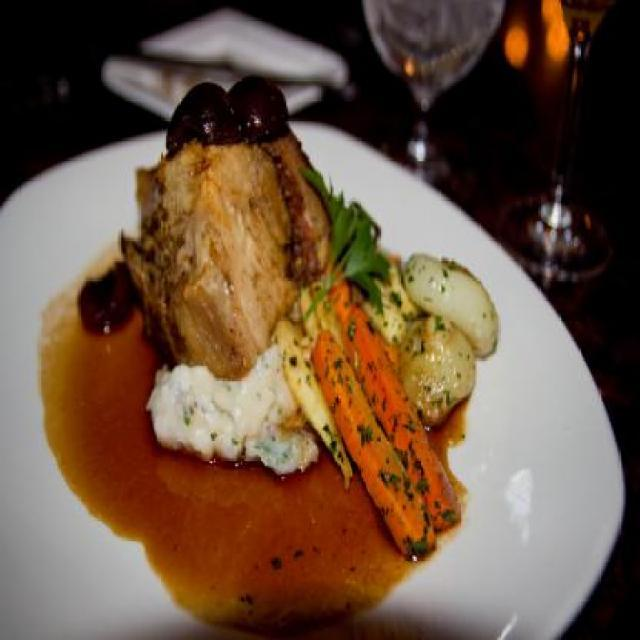Carrot: (300, 334, 449, 532)
